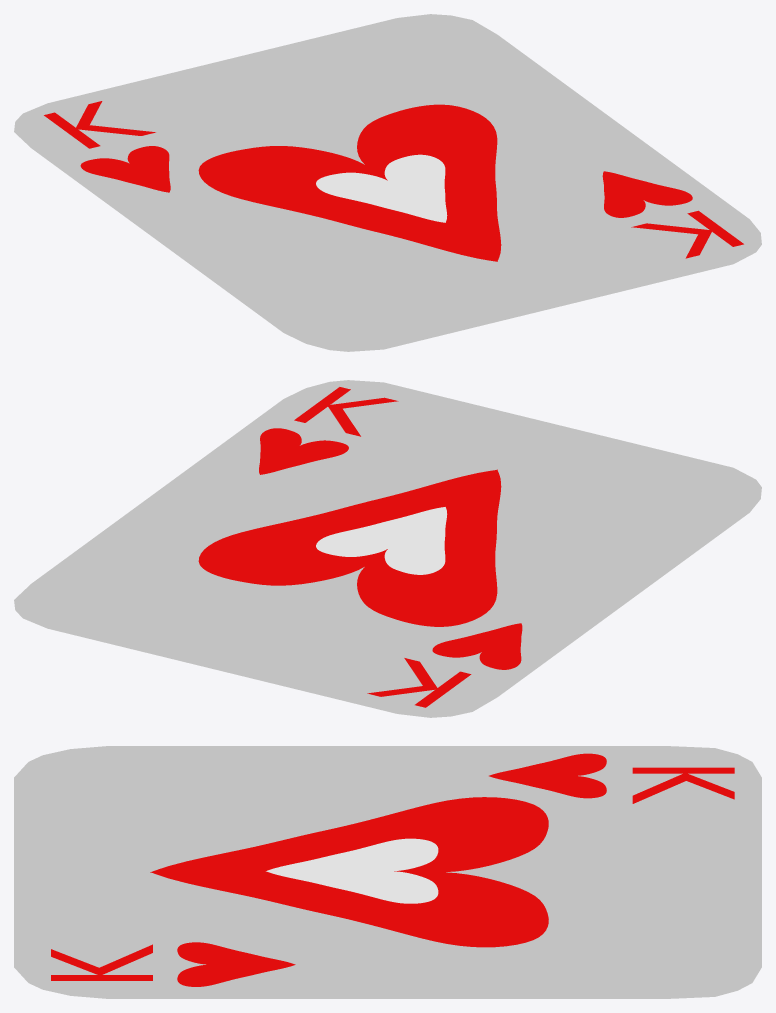
3 views of the same model, one above another, from view 1: azimuth 30°, elevation 25°; view 2: azimuth 150°, elevation 25°; view 3: azimuth 270°, elevation 25° (orthographic). The views are drawn at different scales.
Parts seen in each view (by area): view 1: KingofHearts, Plane.075_Red.003, Plane.074_White.003, Plane.065_Red.002, Plane.066_Red.002, Font.030_Bla_Blac.002, Font.029_Bla_Blac.002; view 2: KingofHearts, Plane.075_Red.003, Plane.074_White.003, Plane.066_Red.002, Plane.065_Red.002, Font.029_Bla_Blac.002, Font.030_Bla_Blac.002; view 3: KingofHearts, Plane.075_Red.003, Plane.074_White.003, Plane.066_Red.002, Plane.065_Red.002, Font.029_Bla_Blac.002, Font.030_Bla_Blac.002.
Part boxes in pixels (x1,y1,x2,y2): KingofHearts: [14, 14, 761, 351]; Plane.075_Red.003: [198, 104, 501, 261]; Plane.074_White.003: [316, 154, 447, 222]; Plane.065_Red.002: [602, 171, 692, 217]; Plane.066_Red.002: [80, 146, 170, 192]; Font.030_Bla_Blac.002: [631, 210, 743, 258]; Font.029_Bla_Blac.002: [44, 101, 155, 148]; KingofHearts: [14, 380, 761, 717]; Plane.075_Red.003: [198, 469, 501, 626]; Plane.074_White.003: [316, 507, 447, 574]; Plane.066_Red.002: [432, 623, 522, 669]; Plane.065_Red.002: [259, 428, 348, 474]; Font.029_Bla_Blac.002: [367, 658, 471, 707]; Font.030_Bla_Blac.002: [294, 387, 398, 436]; KingofHearts: [14, 746, 761, 998]; Plane.075_Red.003: [150, 797, 548, 947]; Plane.074_White.003: [266, 838, 438, 903]; Plane.066_Red.002: [489, 753, 606, 798]; Plane.065_Red.002: [177, 942, 295, 986]; Font.029_Bla_Blac.002: [632, 767, 734, 803]; Font.030_Bla_Blac.002: [51, 944, 152, 980].
Bounding box in the file's own units: 1.6 × 0.00374 × 2.
